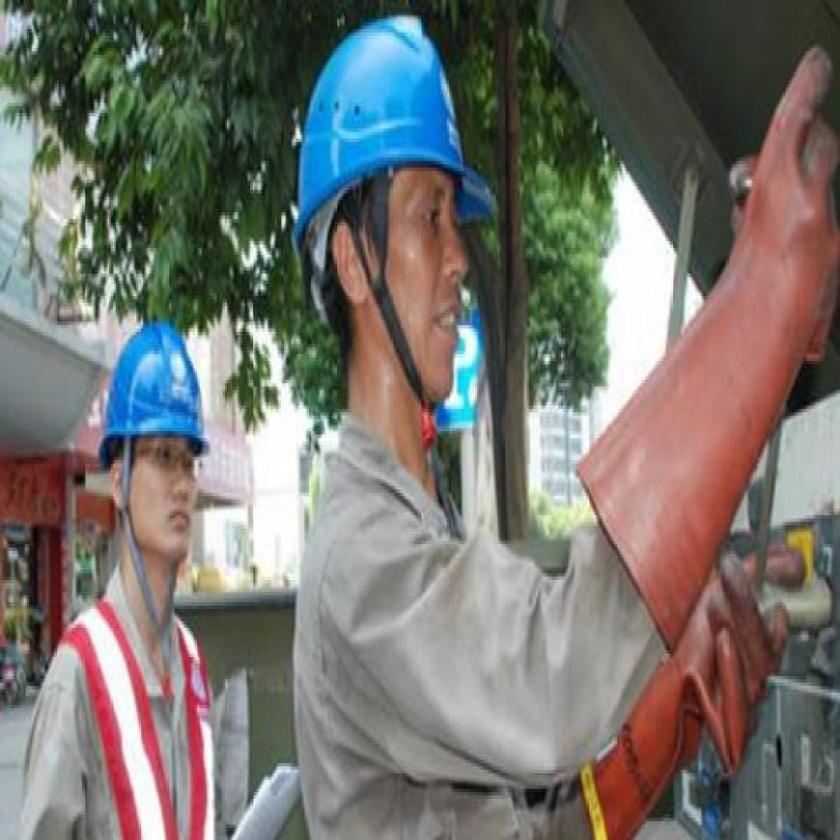Con_casco: (290, 16, 500, 447), (94, 310, 211, 595)
